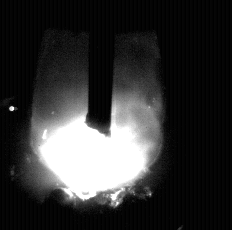arame: (89, 0, 113, 138)
poca: (28, 0, 163, 230)
